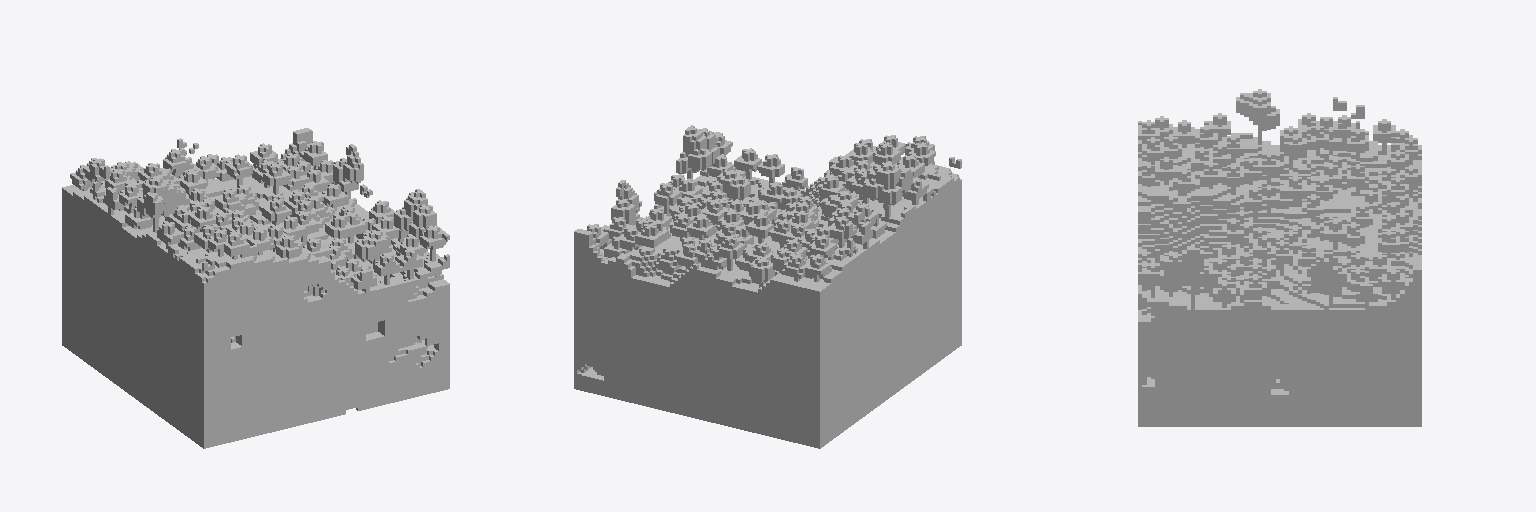
Rendered from large-forest-only.obj.
3 renders of one model, left to right at view 1: azimuth 30°, elevation 25°; view 2: azimuth 150°, elevation 25°; view 3: azimuth 270°, elevation 25°, orthographic.
Visible parts, largest first — view 1: Honors_World__92_141_-517_to_155_211_-454; view 2: Honors_World__92_141_-517_to_155_211_-454; view 3: Honors_World__92_141_-517_to_155_211_-454.
Part boxes in pixels (x1,y1,x2,y2): Honors_World__92_141_-517_to_155_211_-454: (62, 128, 449, 448); Honors_World__92_141_-517_to_155_211_-454: (574, 125, 961, 448); Honors_World__92_141_-517_to_155_211_-454: (1138, 89, 1421, 426).
Bounding box in the file's own units: 64 × 55 × 64.